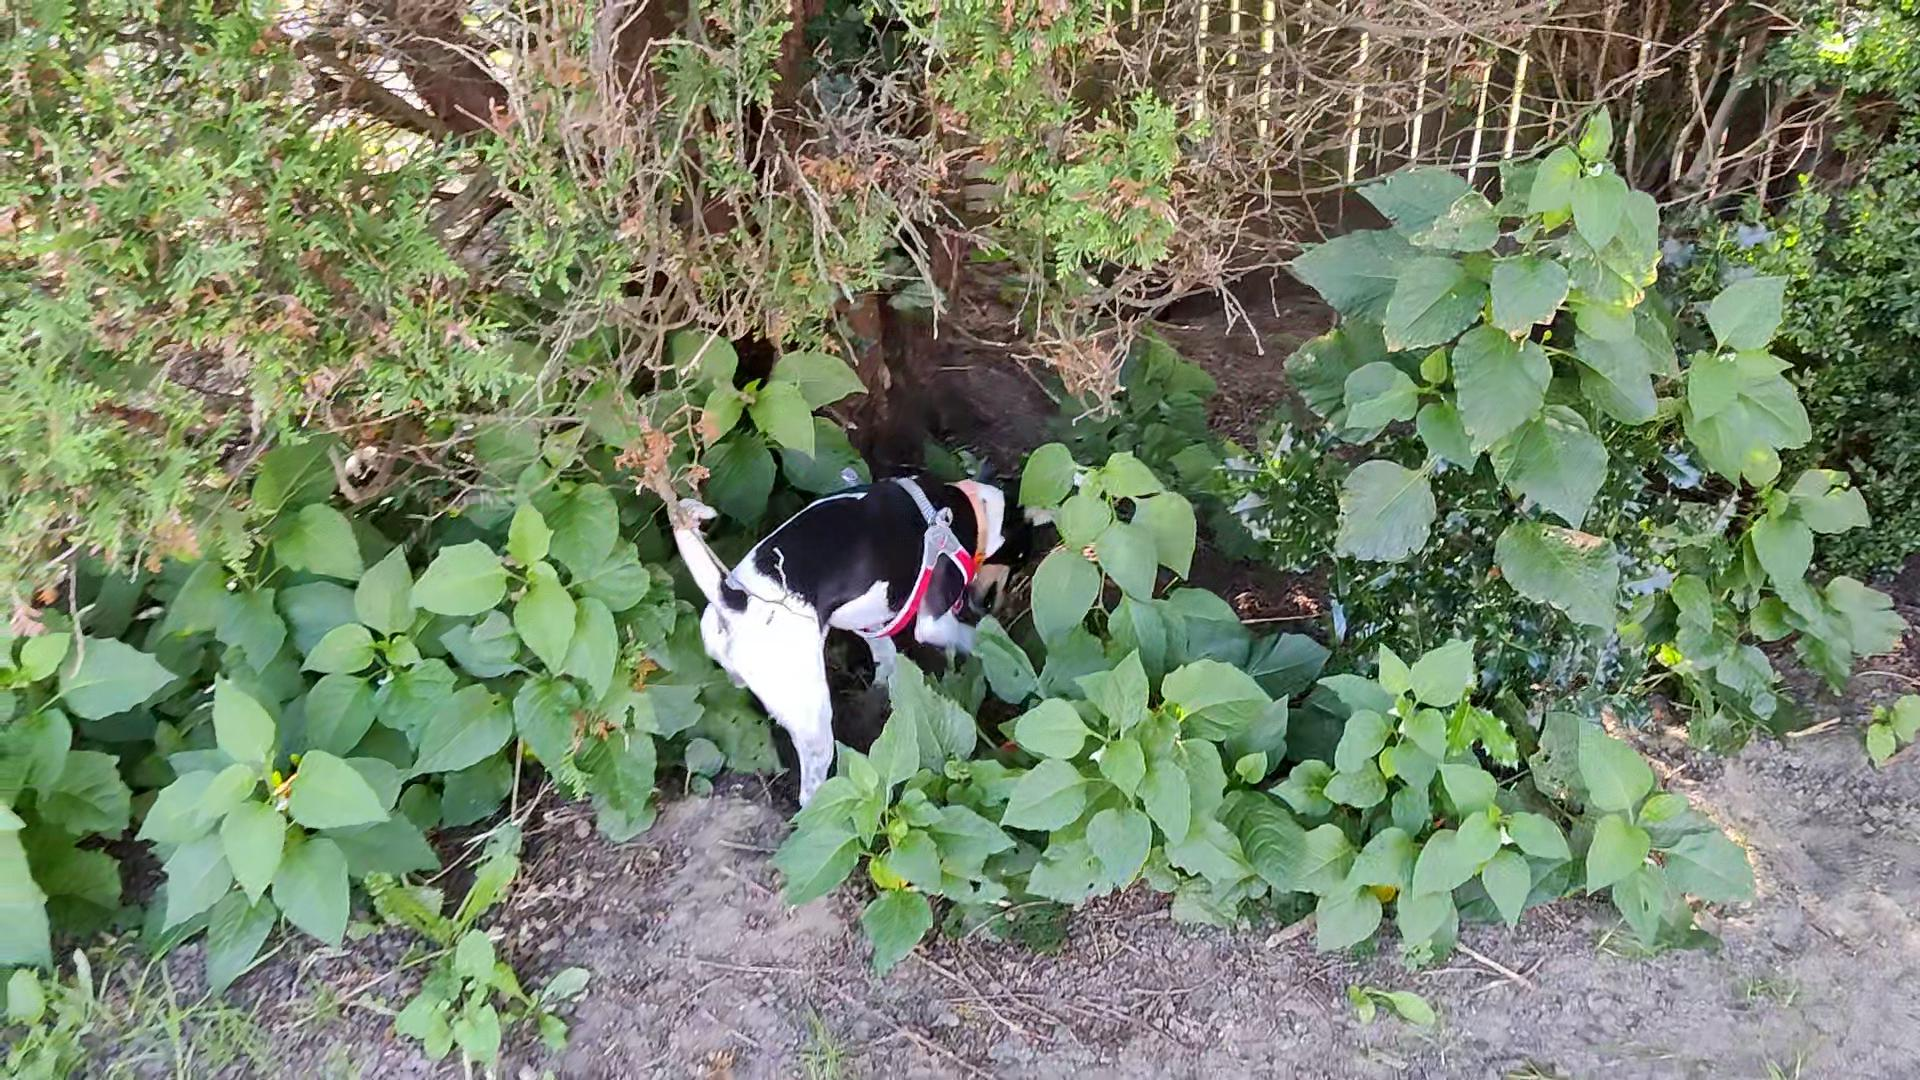Dog: (626, 418, 1083, 816)
